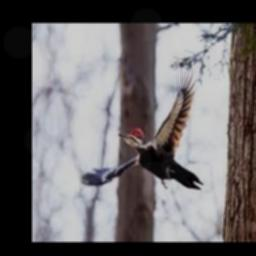Woodpecker: (80, 68, 203, 189)
